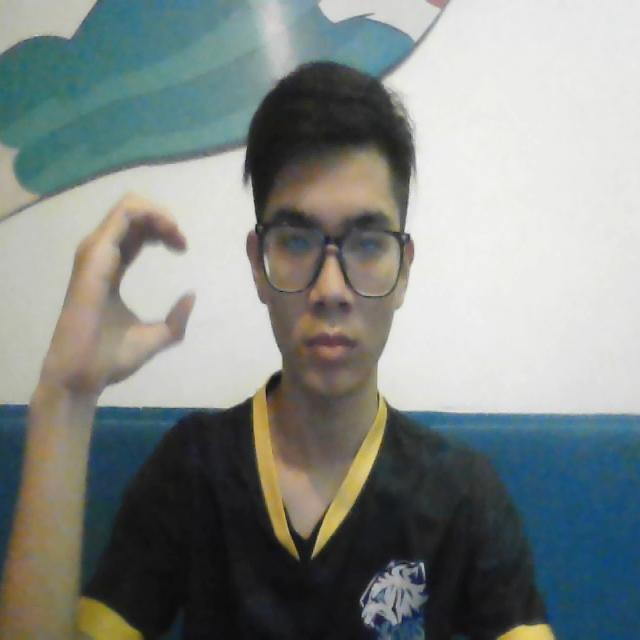C: (56, 190, 200, 387)
